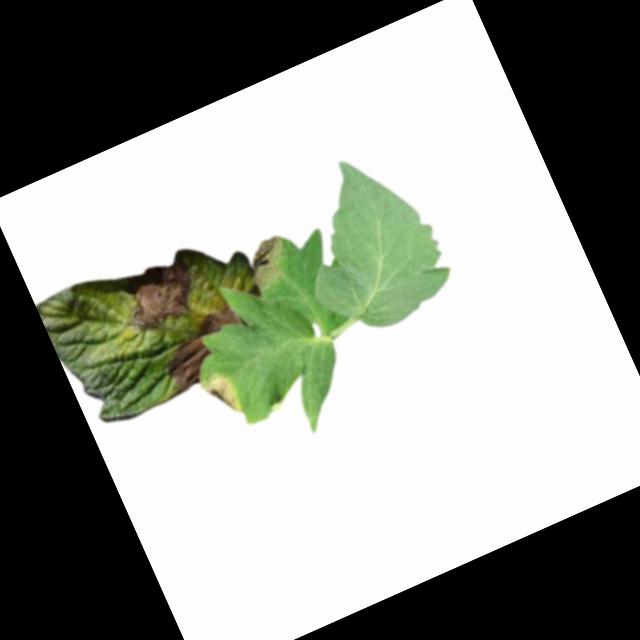Late_blight: (109, 251, 205, 337), (239, 228, 301, 295), (153, 333, 218, 394), (199, 370, 245, 423), (194, 301, 243, 341)
